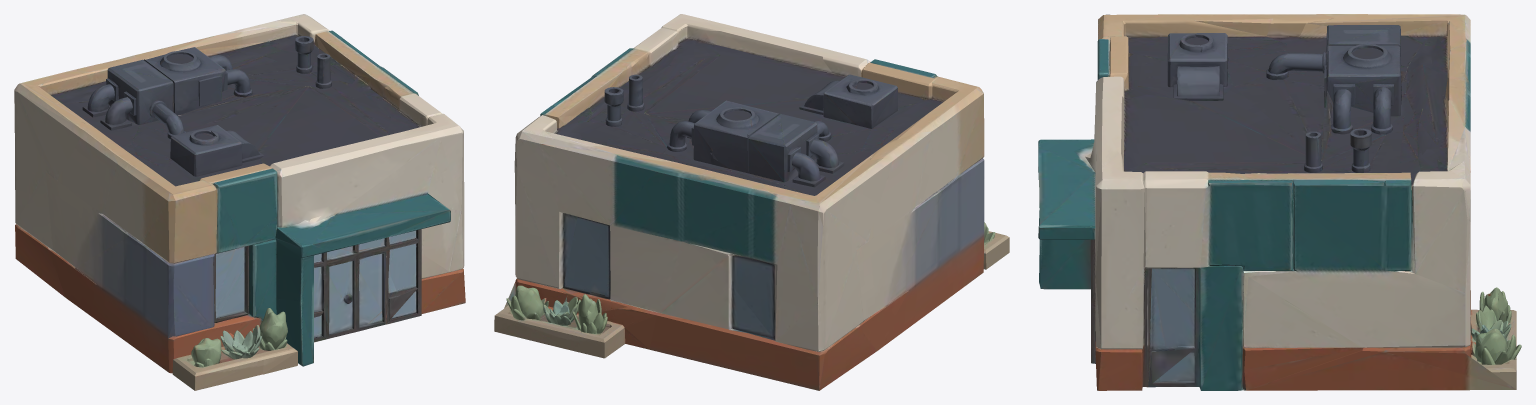
The model's file is lab.glb.
3 views of the same model, side by side, from view 1: azimuth 30°, elevation 25°; view 2: azimuth 150°, elevation 25°; view 3: azimuth 270°, elevation 25° (orthographic). The views are drawn at different scales.
Bounding box in the file's own units: 1.59 × 1.04 × 1.9.
Materials: 1 (1 with a texture image).
